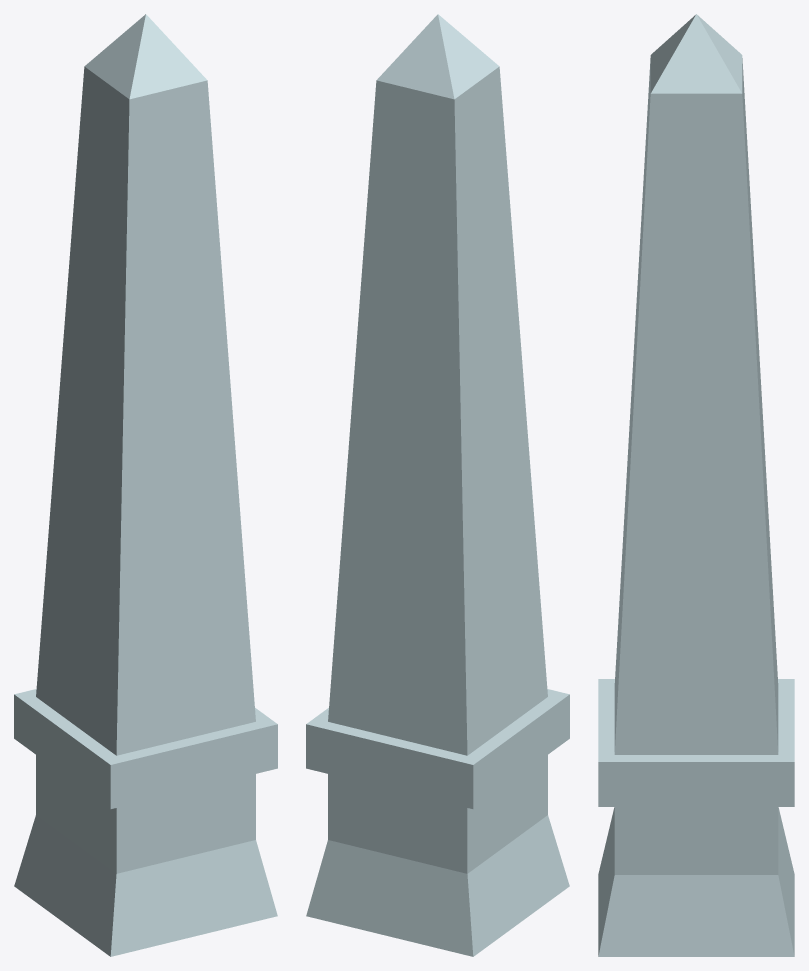
File: pillarObelisk.glb
The picture shows the model from 3 angles, left to right: view 1: azimuth 30°, elevation 25°; view 2: azimuth 150°, elevation 25°; view 3: azimuth 270°, elevation 25°; orthographic projection.
Parts seen in each view (by area): view 1: pillarObelisk; view 2: pillarObelisk; view 3: pillarObelisk.
Part boxes in pixels (x1,y1,x2,y2): pillarObelisk: (14, 14, 277, 956); pillarObelisk: (306, 14, 569, 956); pillarObelisk: (598, 14, 794, 956).
Size of the model in its own units: 0.2062 by 1.05 by 0.2062.
